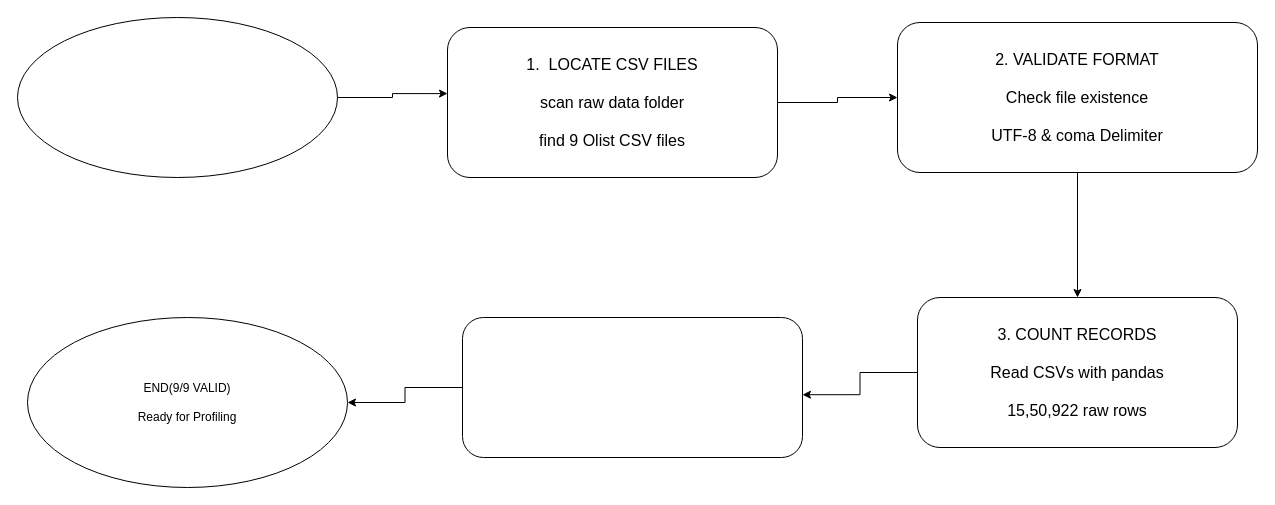
Some shapes in this 1275 by 505 pixel diagram are drawn without their labels. Here are the shapes that lost their labels. From the top down, the centre of each, then its label:
At point 177,97: "START 01_extract_olist.py".
At point 632,387: "4. EXPORT SUMMARY save audit table to 01_extraction_summary.csv".
